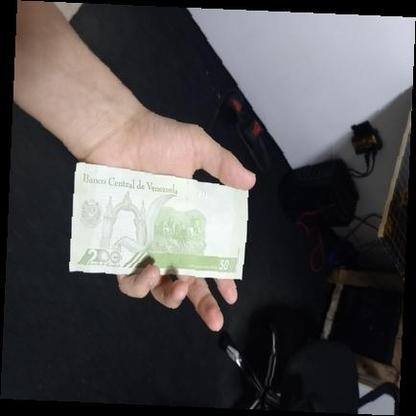fifty-back-vef: (70, 162, 247, 279)
